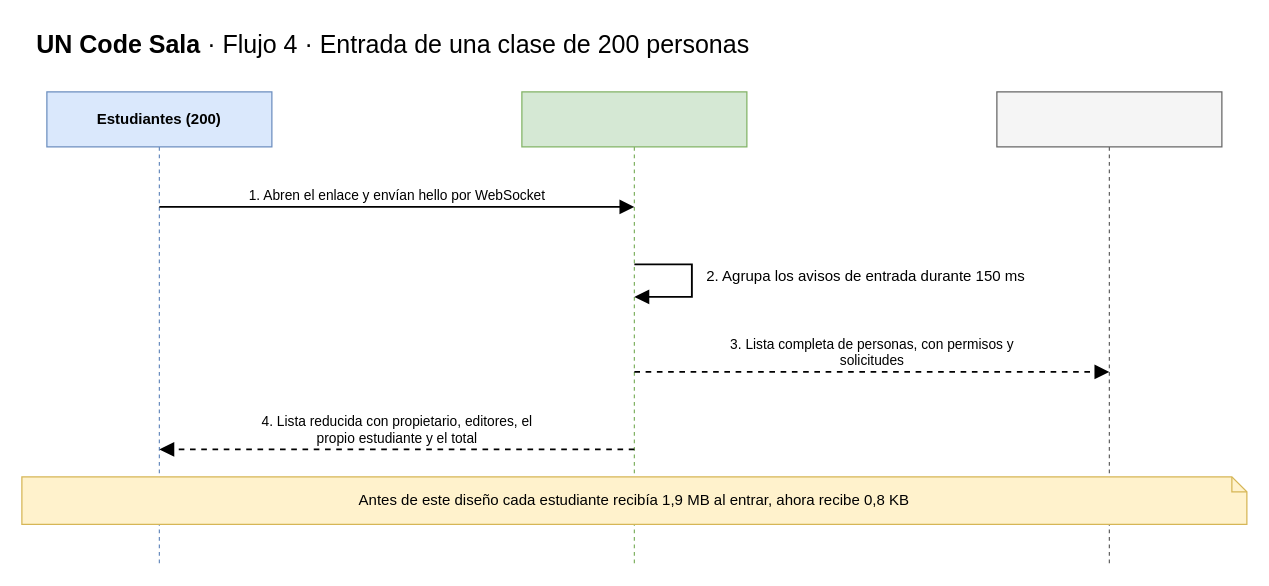
The diagram is 1269 pixels wide and 586 high, and some of its shapes have lost their labels. Here are the shapes that lost their labels. From the top down, the box of each, then its label:
(521, 91, 747, 564): Servidor Node
(996, 91, 1222, 564): Profesor (propietario)
